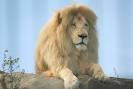lion: (33, 6, 115, 89)
